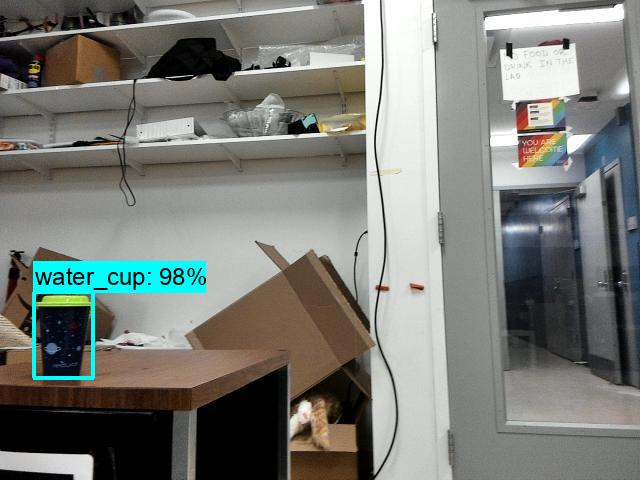water_cup: (33, 293, 94, 380)
